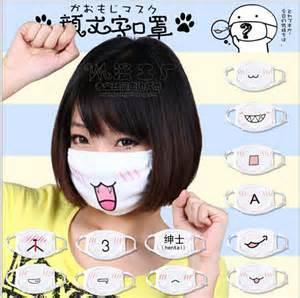OK: (67, 123, 153, 209)
